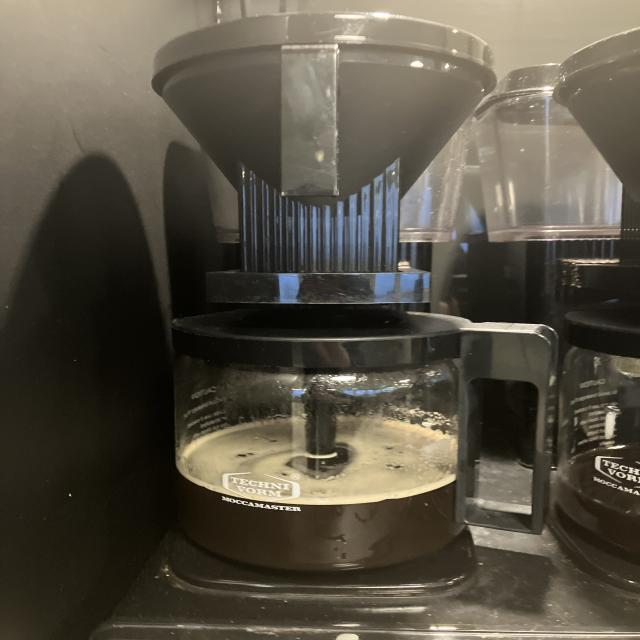coffee: (147, 303, 478, 579), (549, 302, 640, 596)
